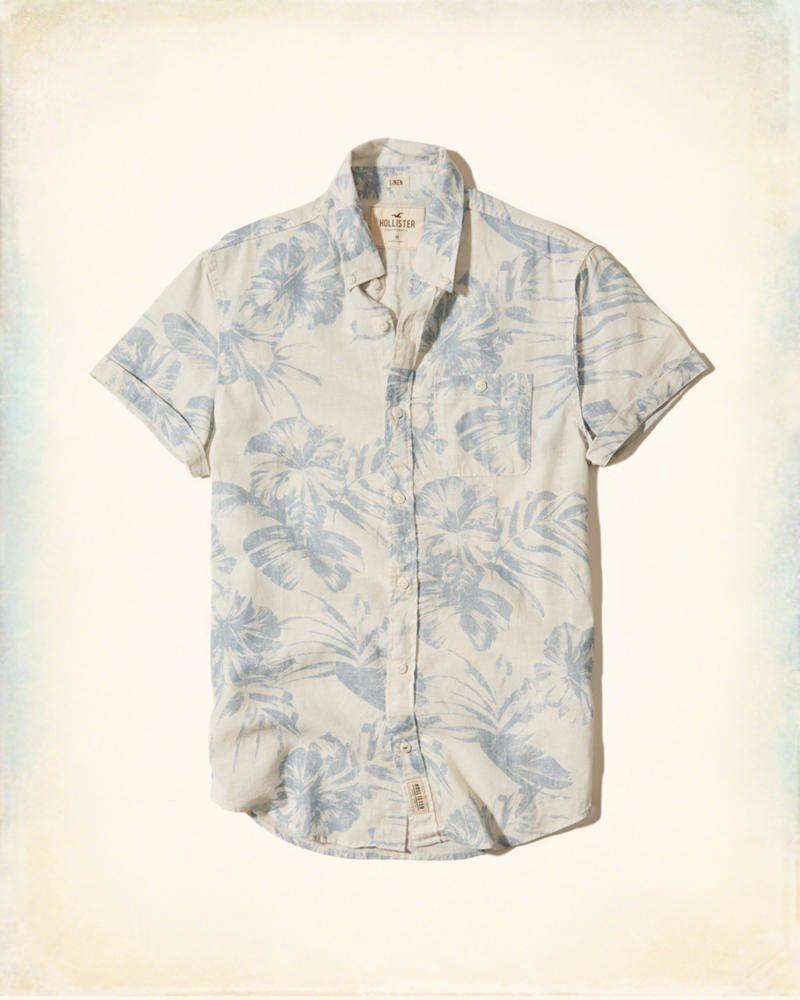teeshirt: (83, 124, 717, 872)
